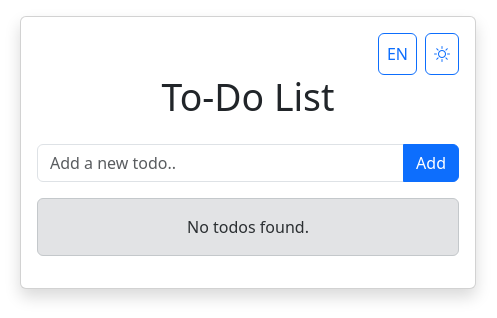
it: todoList App › should edit a task
Type "New Task" into the field with placeholder "Add a new todo.." at (221, 163), box [37,144,404,182]
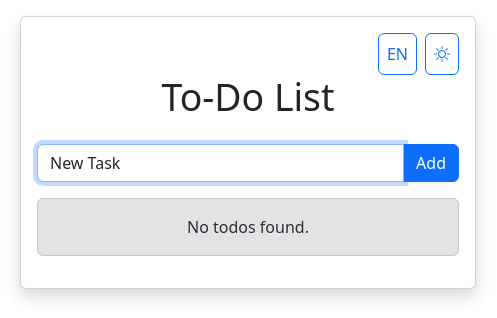
Click the button "Add" at (431, 163), box [403,144,459,182]
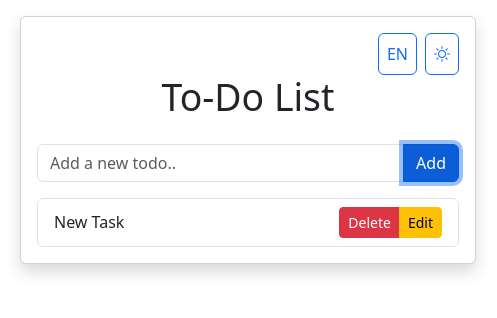
Now the list with class "list-group" shows "New Task", box [37,198,459,247]
Click the button "Edit" at (421, 223), box [399,207,442,238]
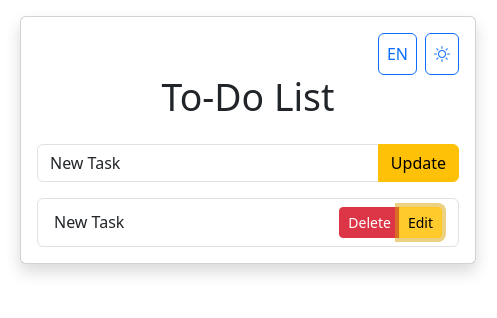
Replace the text in the field with "New Task Edited" at (208, 163), box [37,144,379,182]
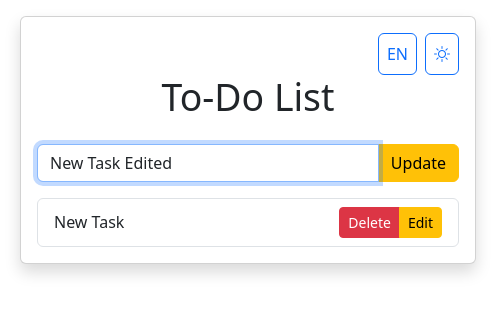
Click the button "Update" at (419, 163), box [378,144,459,182]
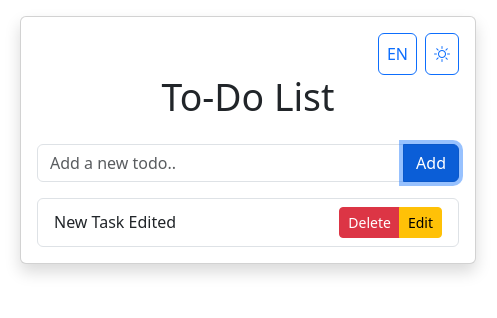
Now the list with class "list-group" shows "New Task Edited", box [37,198,459,247]
